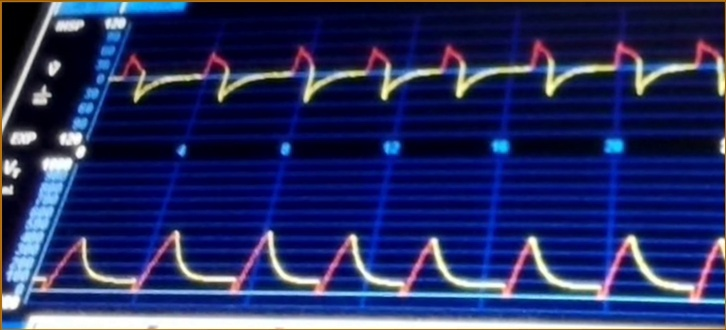Flow: (120, 27, 726, 135)
Leakage Volume: (54, 204, 726, 310)
